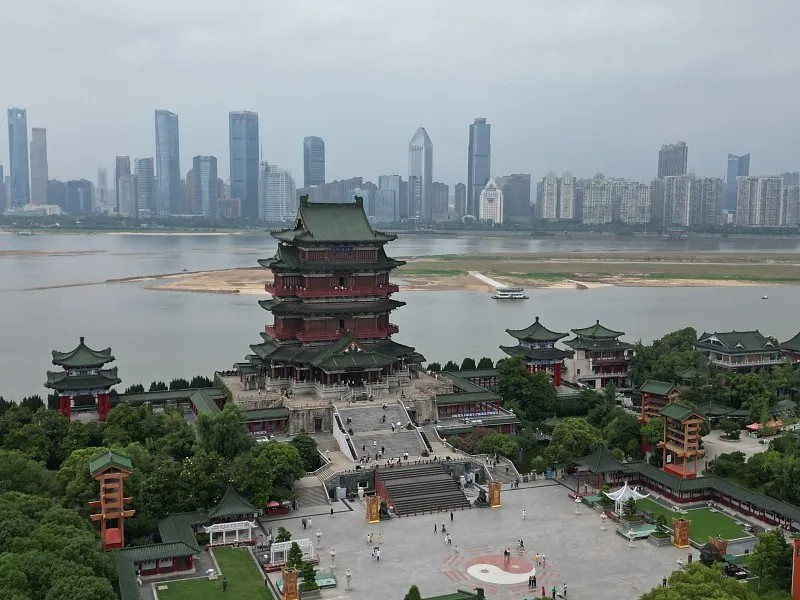Teng: (234, 195, 427, 387)
